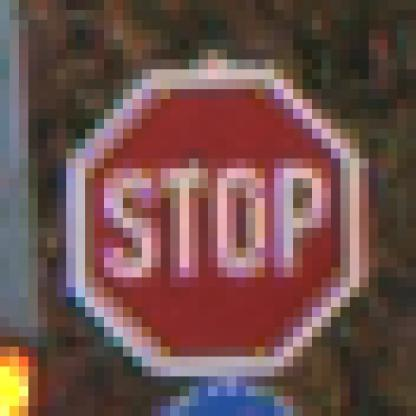Stop: (77, 75, 359, 376)
